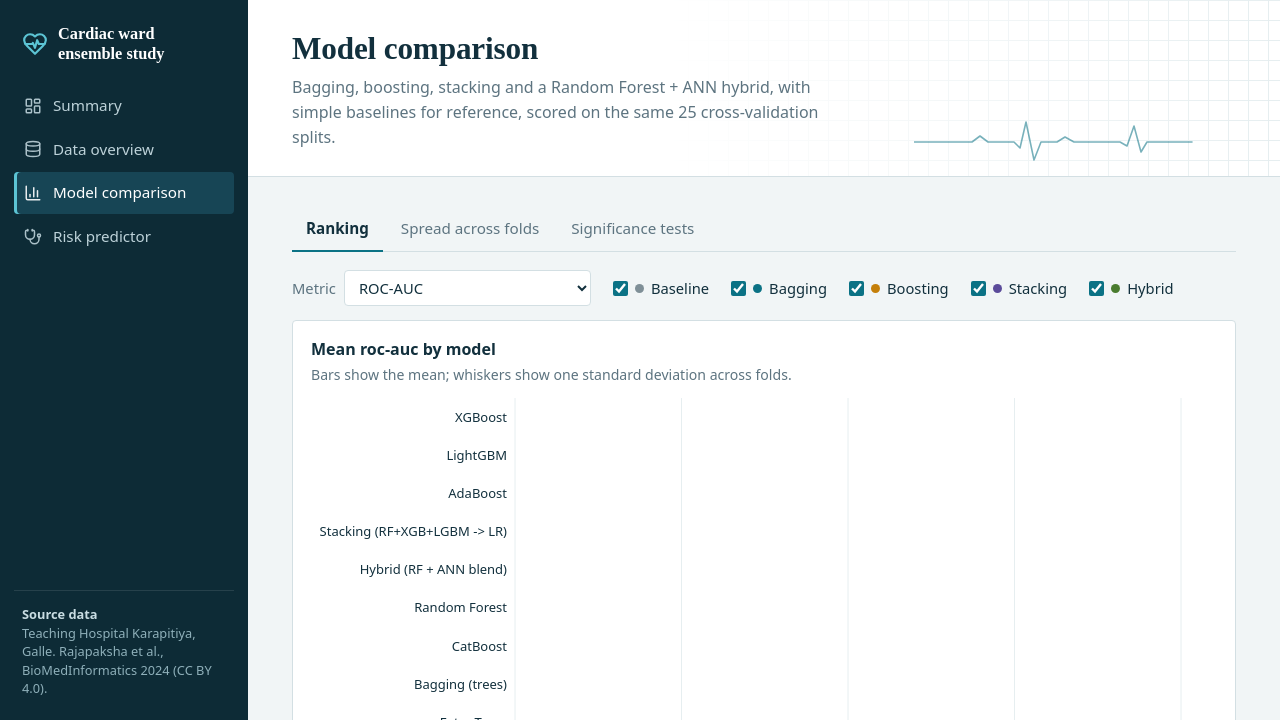
Scenario: model comparison tabs and filters work
Select "Brier score (lower is better)" in the dropdown labelled "Metric" at {"x": 467, "y": 288}, box top-left (344, 270), bottom-right (591, 306)
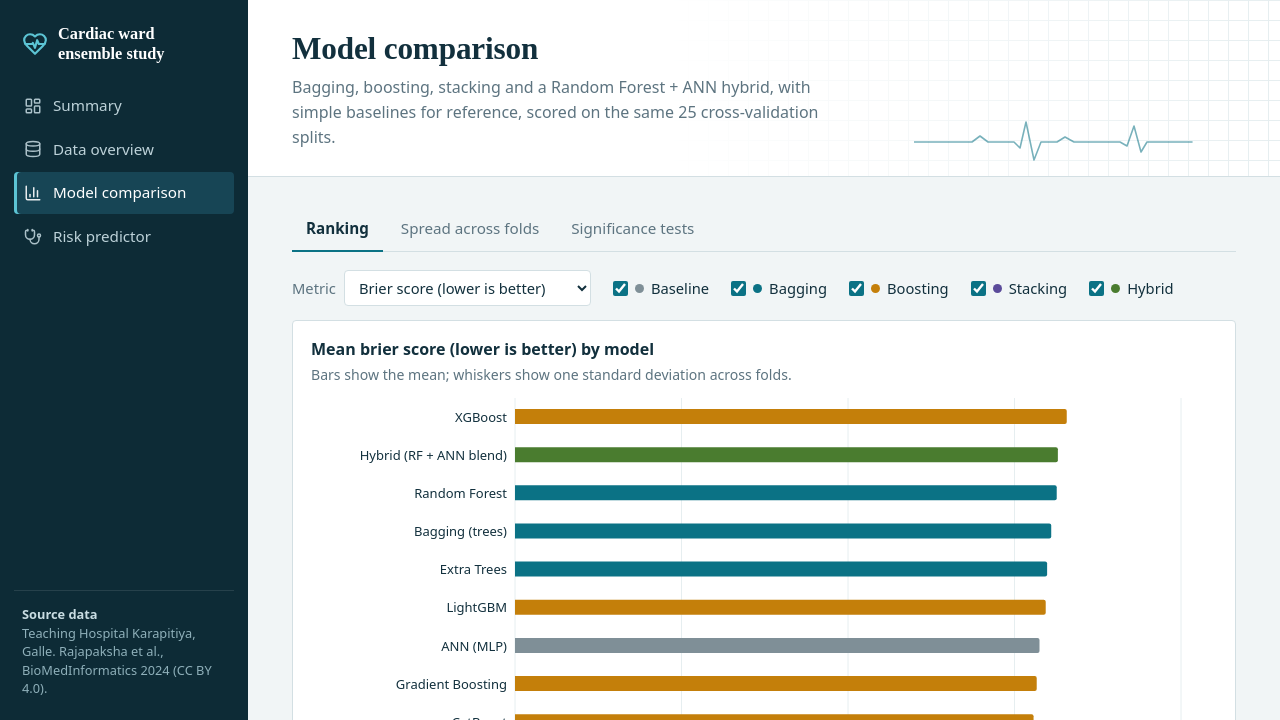
Click the tab "Spread across folds".
click(470, 230)  # box top-left (387, 207), bottom-right (553, 252)
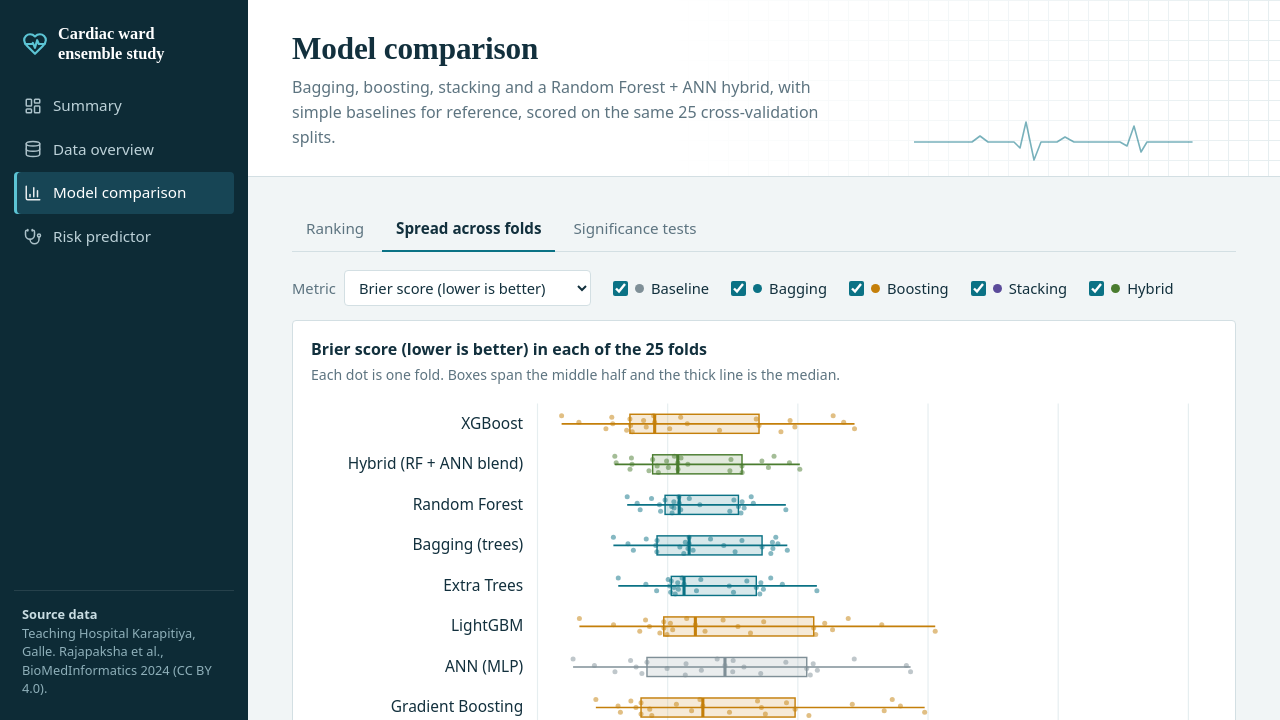
Click the tab "Significance tests".
click(635, 230)  # box top-left (560, 207), bottom-right (711, 252)
(page scrolled)
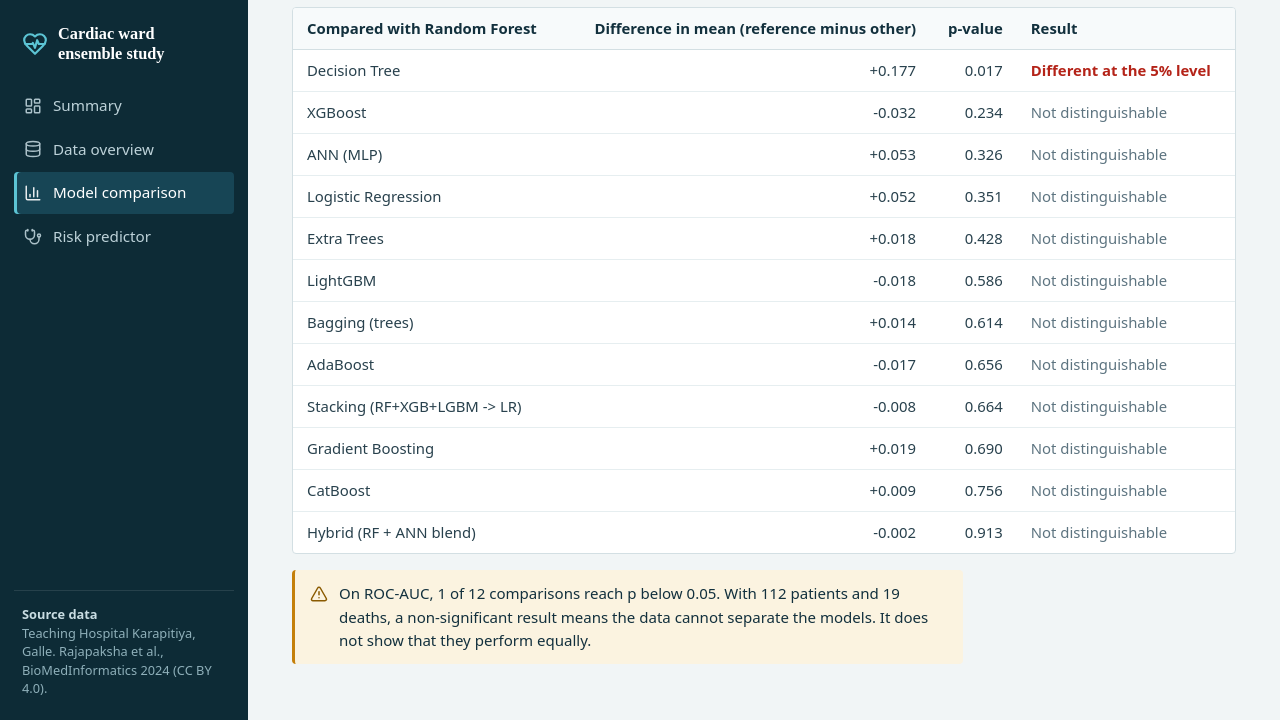
Expected: the text "Decision Tree" is shown, top-left (293, 49), bottom-right (563, 91)
Result: the text "comparisons reach p below 0.05" is shown at top-left (339, 583), bottom-right (928, 650)
